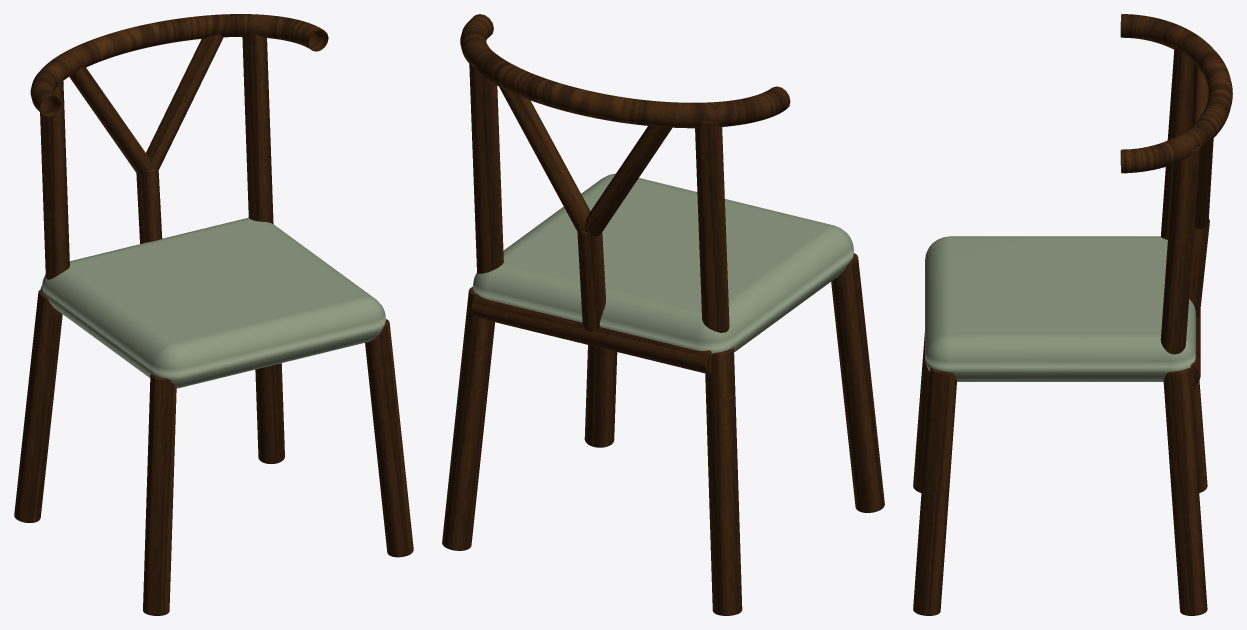
File: chair.glb
The picture shows the model from 3 angles, left to right: view 1: azimuth 30°, elevation 25°; view 2: azimuth 150°, elevation 25°; view 3: azimuth 270°, elevation 25°; orthographic projection. The views are drawn at different scales.
Visible parts, largest first — view 1: japanese-game-cafe chair; view 2: japanese-game-cafe chair; view 3: japanese-game-cafe chair.
Boxes of the visible parts, x1,y1,x2,y2 form: japanese-game-cafe chair: (14, 14, 413, 615); japanese-game-cafe chair: (442, 14, 884, 615); japanese-game-cafe chair: (913, 14, 1232, 615).
Bounding box in the file's own units: 0.624 × 0.9336 × 0.5782.
Materials: 2 (1 with a texture image).
